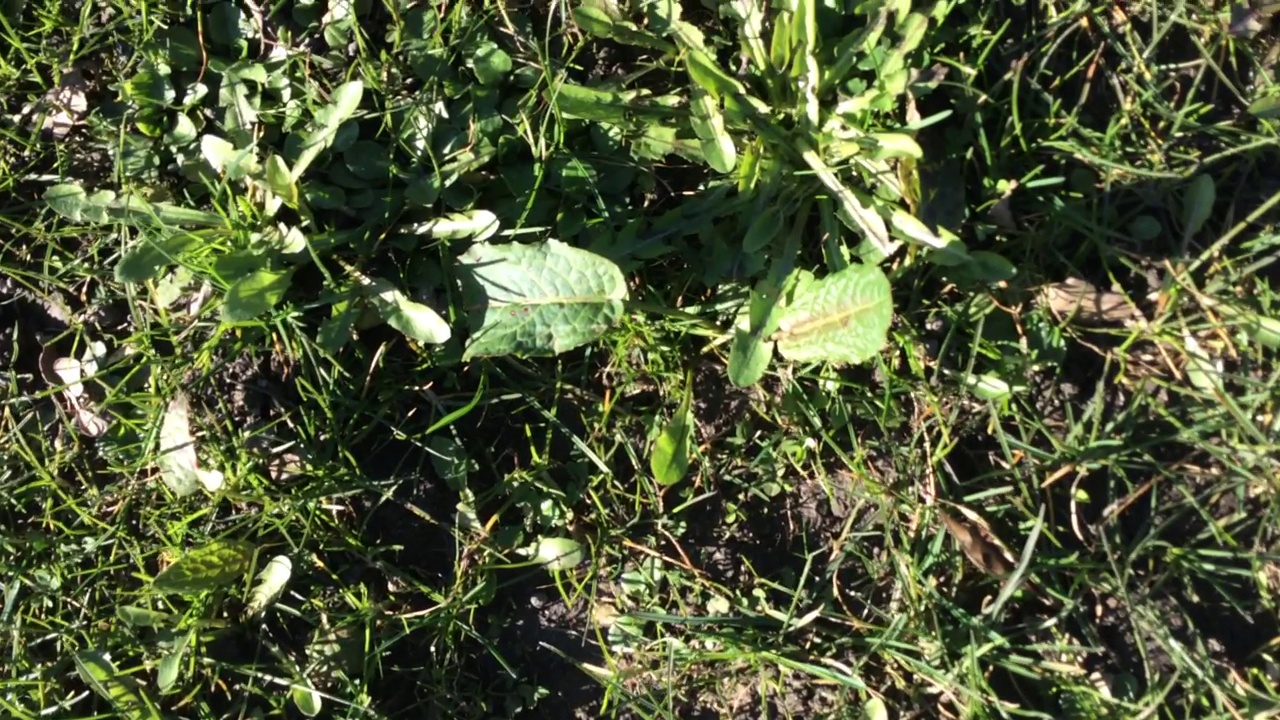rumex: (423, 243, 628, 362), (766, 267, 894, 361)
